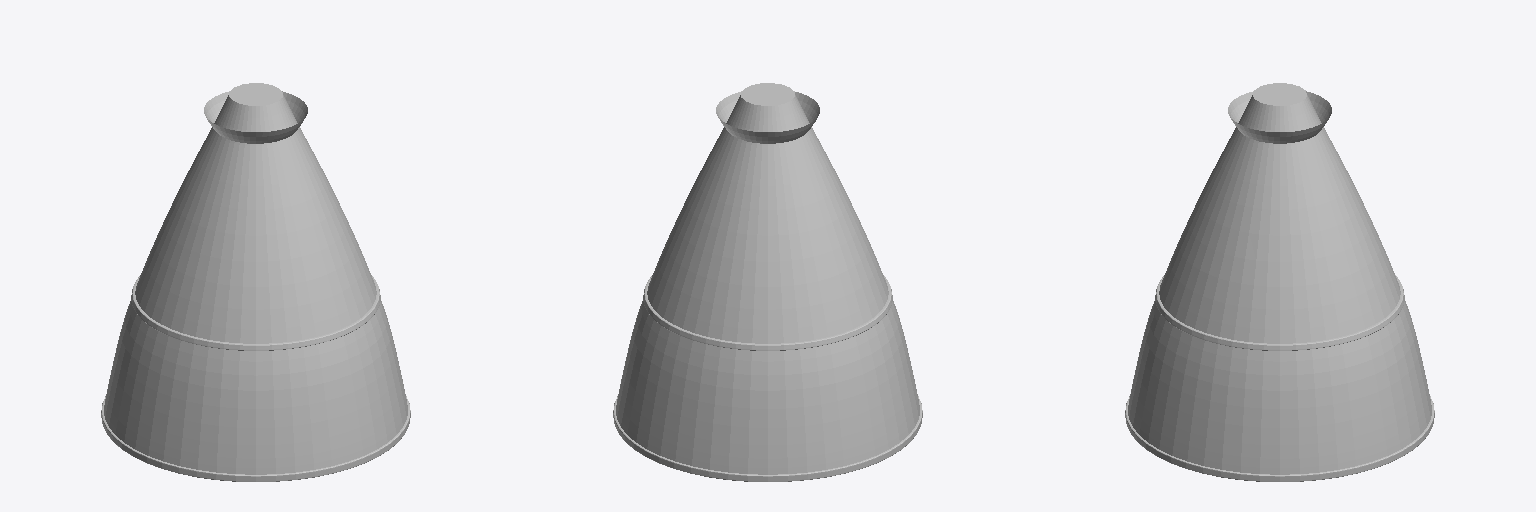
The model's file is SM SPS engine.obj.
The picture shows the model from 3 angles: view 1: azimuth 30°, elevation 25°; view 2: azimuth 150°, elevation 25°; view 3: azimuth 270°, elevation 25°; orthographic projection.
Parts seen in each view (by area): view 1: Mesh.003, Mesh.001, Mesh.005, Mesh.004; view 2: Mesh.003, Mesh.001, Mesh.005, Mesh.004; view 3: Mesh.003, Mesh.001, Mesh.005, Mesh.004.
Boxes of the visible parts, x1,y1,x2,y2 form: Mesh.003: [101, 276, 410, 481]; Mesh.001: [135, 95, 376, 343]; Mesh.005: [204, 91, 307, 143]; Mesh.004: [229, 83, 282, 105]; Mesh.003: [613, 276, 922, 481]; Mesh.001: [647, 95, 888, 343]; Mesh.005: [716, 91, 819, 143]; Mesh.004: [741, 83, 794, 105]; Mesh.003: [1125, 275, 1434, 481]; Mesh.001: [1159, 95, 1400, 343]; Mesh.005: [1228, 91, 1331, 143]; Mesh.004: [1253, 83, 1306, 105].
Bounding box in the file's own units: 2.44 × 2.8 × 2.44.